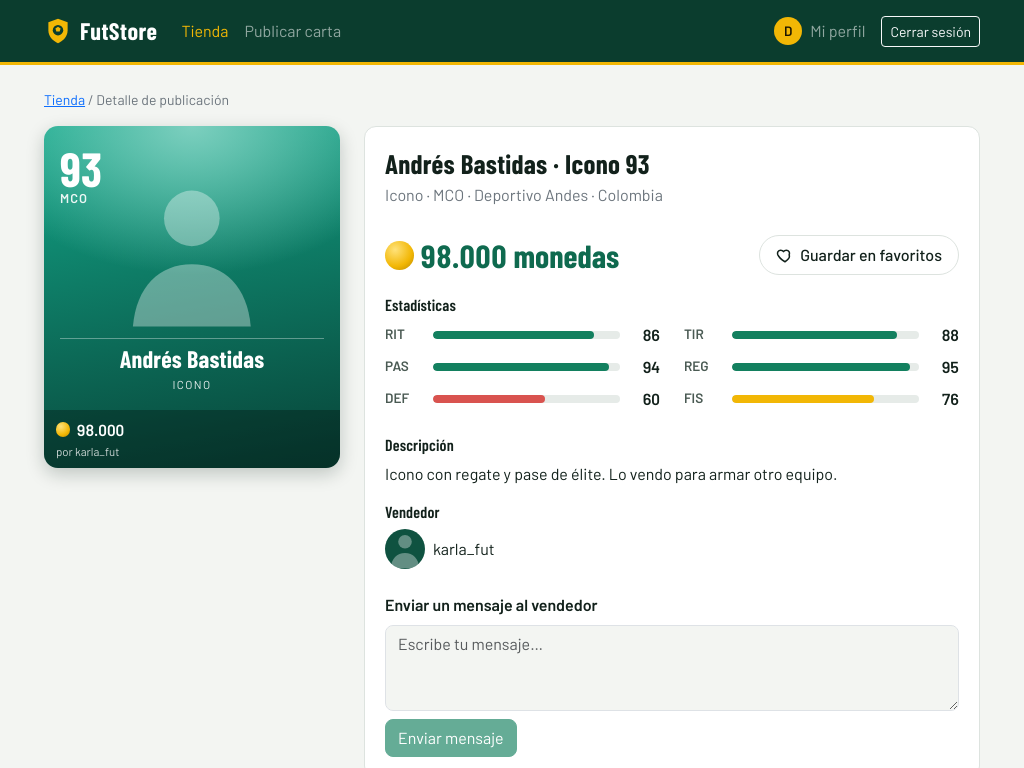
Test: Publicar y perfil › el detalle de otro vendedor permite enviar un mensaje
The image size is (1024, 768).
Type "Hola, ¿sigue disponible?" into the text box labelled "Enviar un mensaje al vendedor". click: [672, 668]
box: [385,625,959,711]
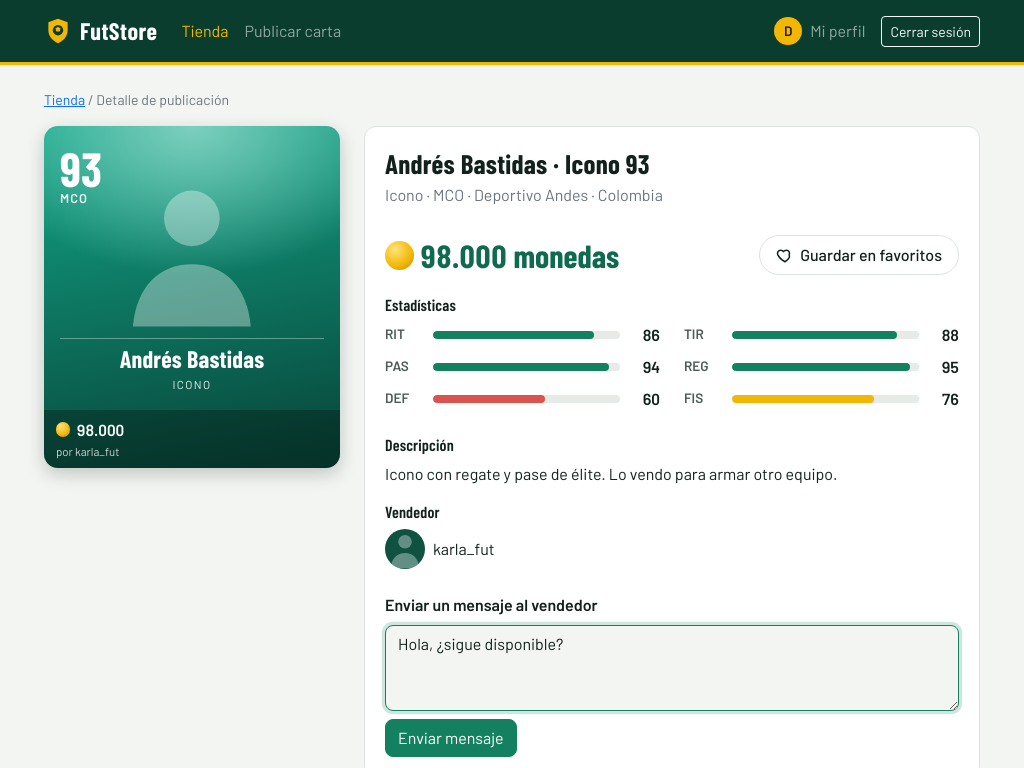
Click the button "Enviar mensaje". click: [451, 738]
box: [385,719,517,757]
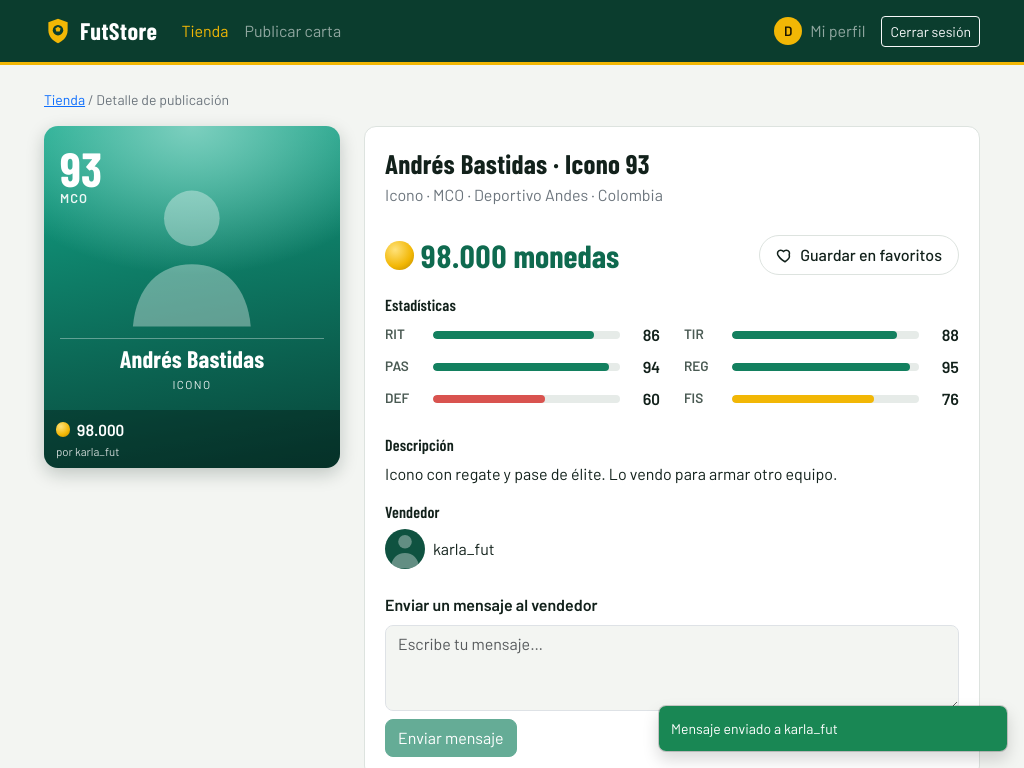
expect the text "Mensaje enviado a karla_fut" is shown: met, box [671,720,838,737]
